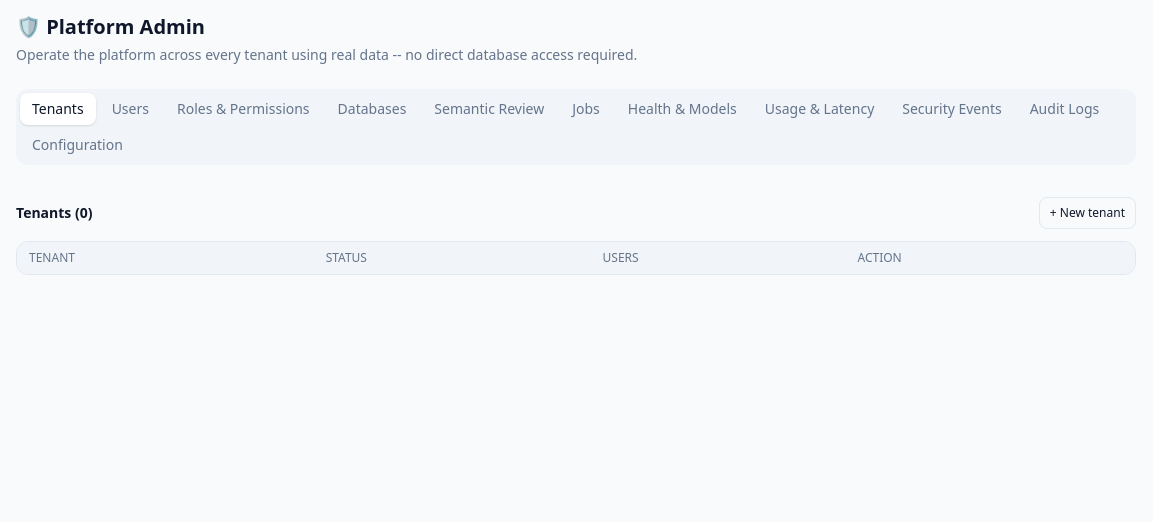
Test case: PlatformAdmin › reuses the existing health/models hooks for the Health & Models tab
What coordinates should you click on to do the following:
click the tab "Health & Models"
I would click on:
 (682, 109)
Its box is [616,93,749,125].
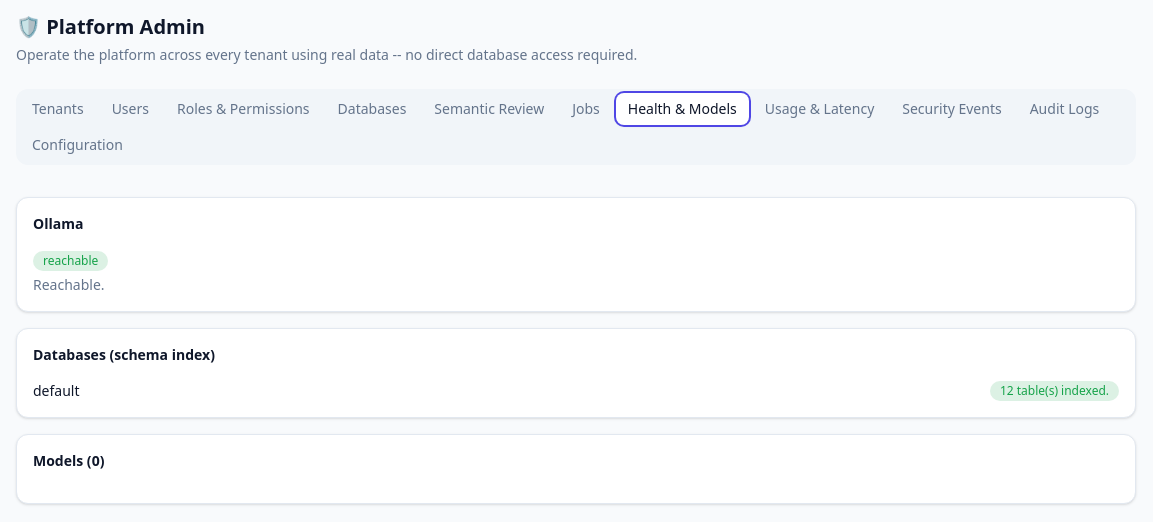
Result: the text "12 table(s) indexed." is shown at [990,381,1119,401]
